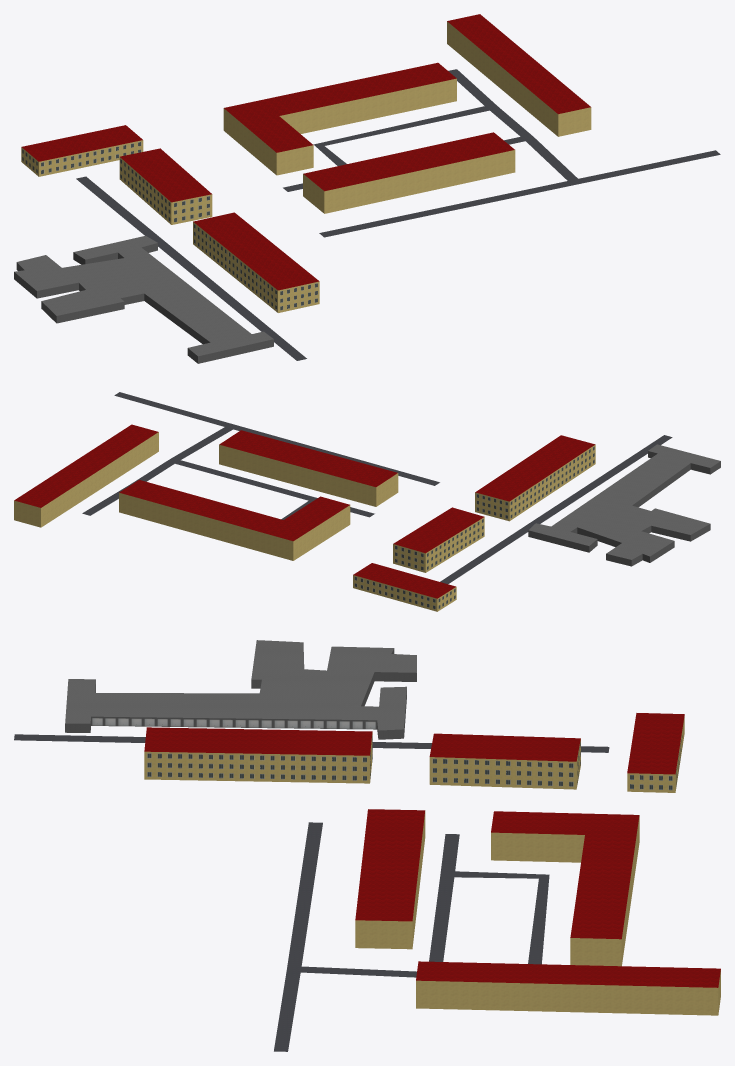
Rendered from district_1_-3.glb.
The picture shows the model from 3 angles, top to bottom: view 1: azimuth 30°, elevation 25°; view 2: azimuth 150°, elevation 25°; view 3: azimuth 270°, elevation 25°; orthographic projection. The views are drawn at different scales.
Visible parts, largest first — view 1: Building w453264660, Building w44036852, Building w44036818, Building w44036825, Building w44036763, Building w44036823, Building w44036859, Road w40942662, Road w165318622, Road w40942663, Road w147456708; view 2: Building w453264660, Building w44036852, Building w44036818, Building w44036825, Building w44036763, Building w44036823, Building w44036859, Road w165318622, Road w40942662, Road w40942663, Road w147456708; view 3: Building w453264660, Building w44036825, Building w44036852, Building w44036763, Building w44036818, Building w44036823, Building w44036859, Road w40942662, Road w147456708, Road w165318622, Road w40942663.
Part boxes in pixels (x1,y1,x2,y2): Building w453264660: (14, 235, 273, 363); Building w44036852: (223, 62, 456, 175); Building w44036818: (303, 132, 515, 213); Building w44036825: (447, 14, 591, 136); Building w44036763: (193, 212, 319, 312); Building w44036823: (119, 148, 212, 224); Building w44036859: (21, 125, 143, 176); Road w40942662: (319, 150, 720, 237); Road w165318622: (81, 181, 306, 360); Road w40942663: (448, 69, 577, 180); Road w147456708: (313, 106, 525, 165); Building w453264660: (528, 444, 720, 566); Building w44036852: (119, 480, 350, 560); Building w44036818: (219, 430, 398, 506); Building w44036825: (14, 424, 158, 527); Building w44036763: (475, 435, 595, 521); Building w44036823: (393, 507, 484, 572); Building w44036859: (353, 563, 456, 611); Road w165318622: (441, 435, 672, 583); Road w40942662: (114, 392, 439, 485); Road w40942663: (82, 427, 232, 515); Road w147456708: (175, 460, 313, 519); Building w453264660: (65, 640, 416, 739); Building w44036825: (416, 961, 720, 1015); Building w44036852: (491, 811, 639, 966); Building w44036763: (144, 727, 372, 783); Building w44036818: (355, 809, 425, 949); Building w44036823: (429, 733, 580, 789); Building w44036859: (627, 713, 684, 792); Road w40942662: (274, 822, 322, 1051); Road w147456708: (429, 871, 549, 964); Road w165318622: (14, 734, 594, 752); Road w40942663: (300, 966, 416, 977).
Bounding box in the file's own units: 233 × 7.5 × 173.
Materials: 6 (6 with a texture image).
